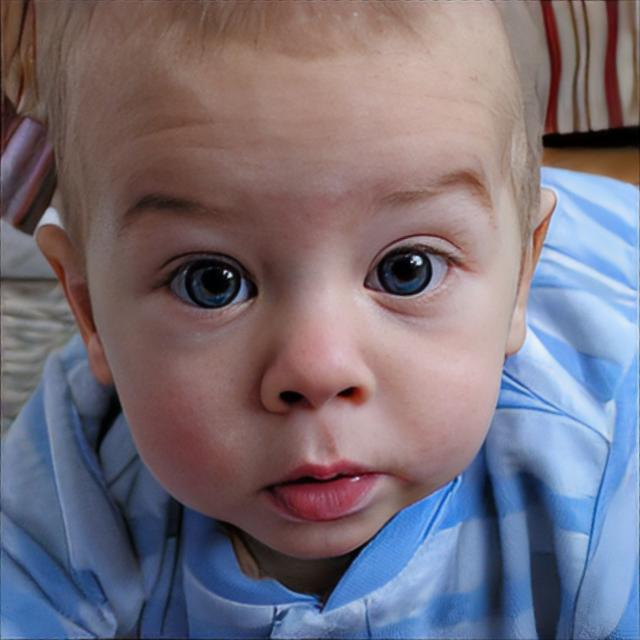surprise: (83, 0, 522, 561)
